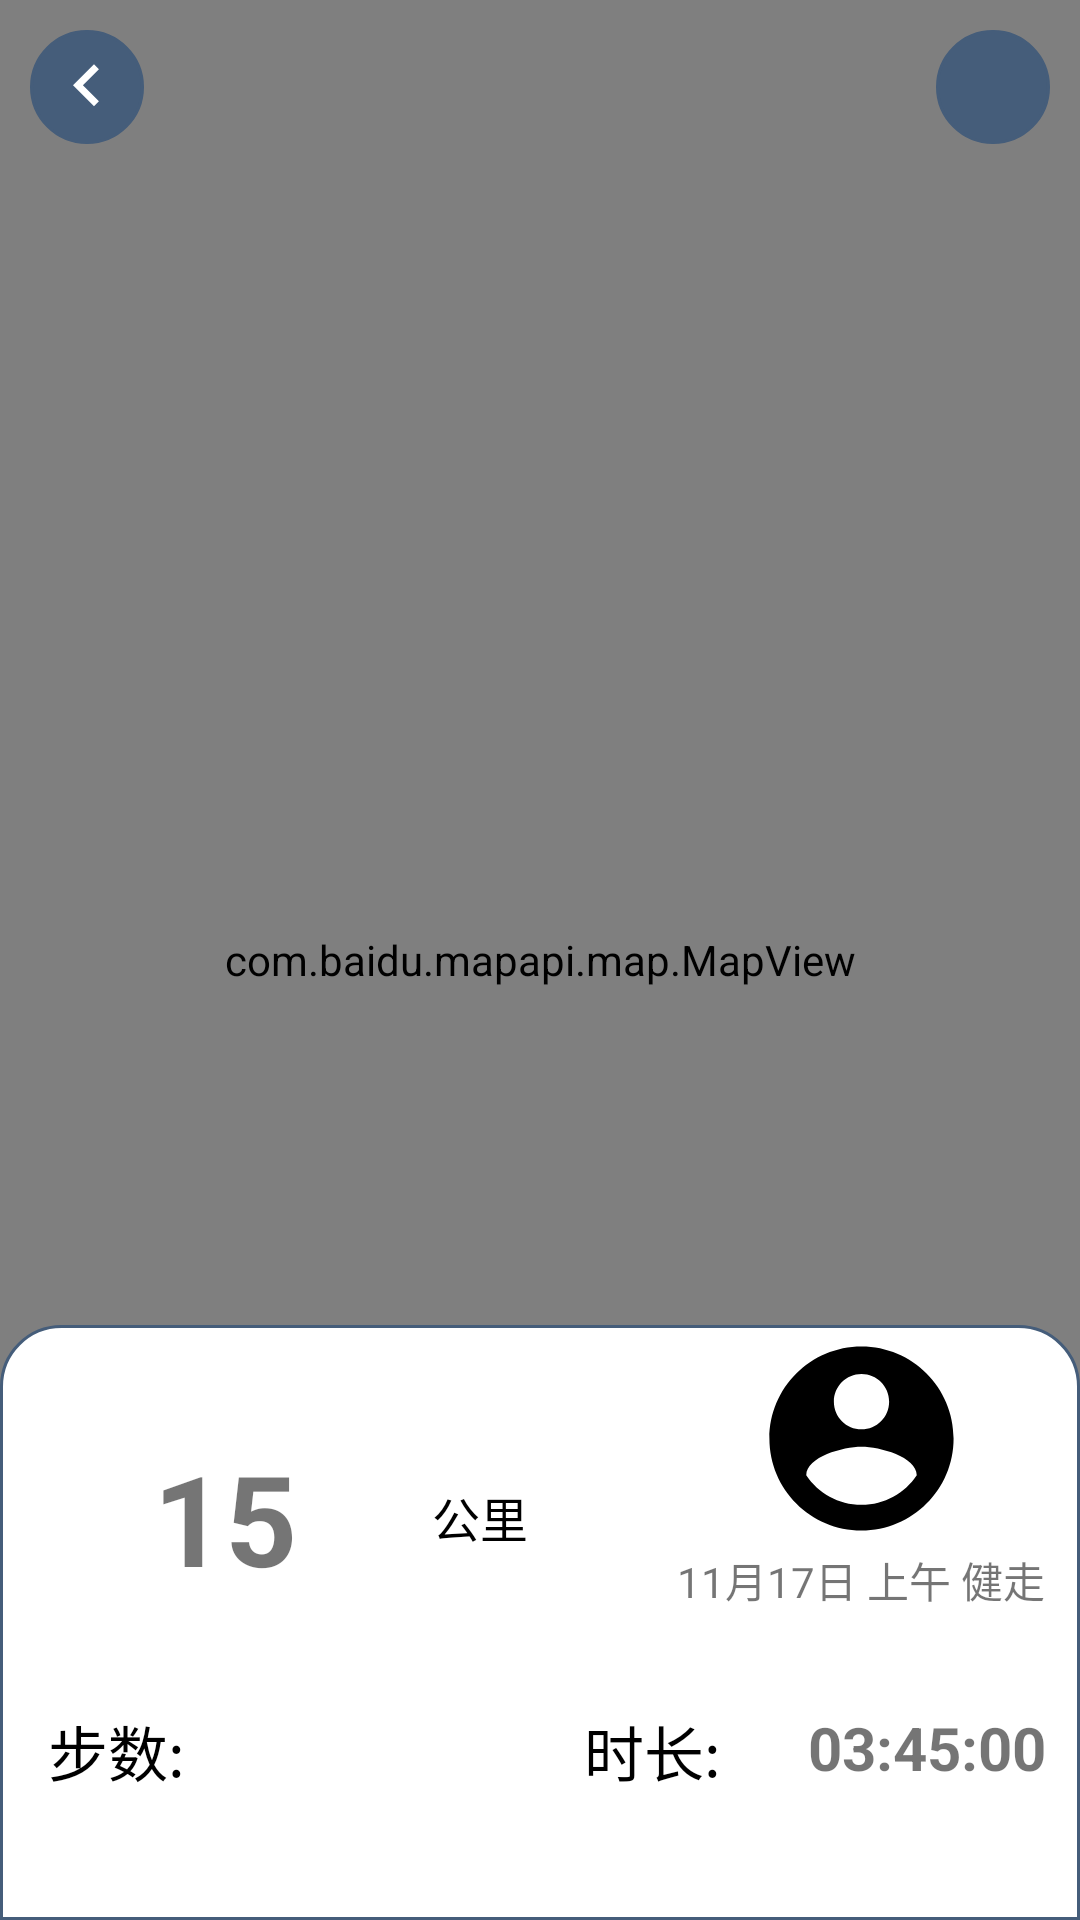

Named icons in this screenshot (1080px×1920px) and their bounding boxes, (x1, y1, x2, y2):
account circle: (769, 1346, 954, 1531)
keyboard arrow left: (30, 30, 144, 144)
